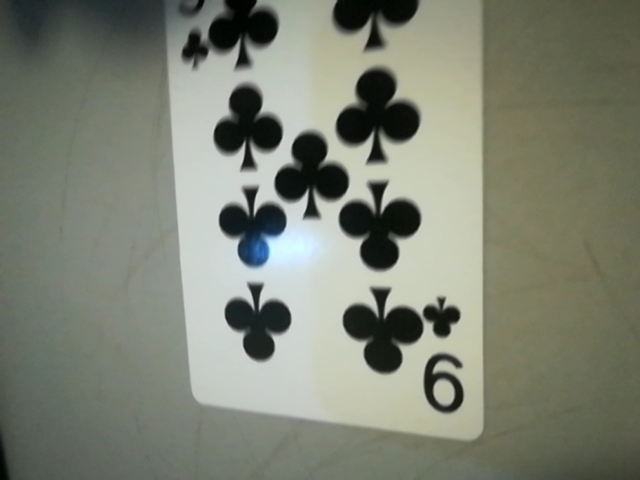mh 9: (416, 291, 482, 424)
